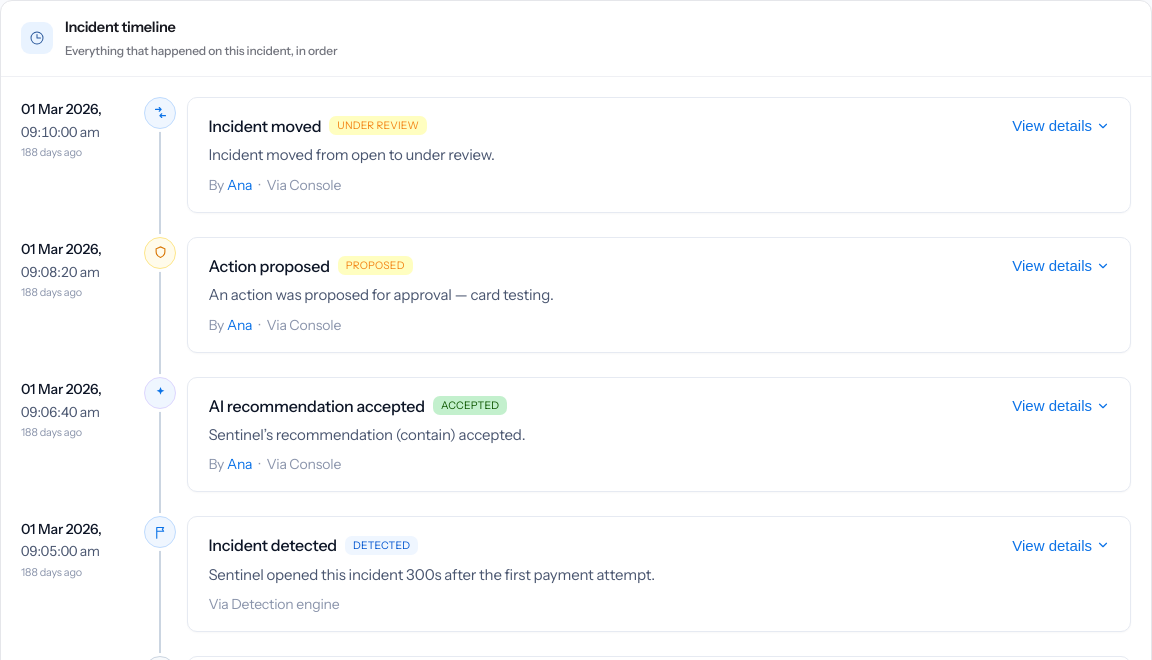
Test: IncidentTimelineTab › expands an event to show only real backend fields
Expected: the text "AI recommendation accepted" is shown, [208, 394, 425, 418]
Step 1. Click the button with class "tl-details" in the row of "AI recommendation accepted" → [1061, 406], box [1012, 397, 1110, 414]
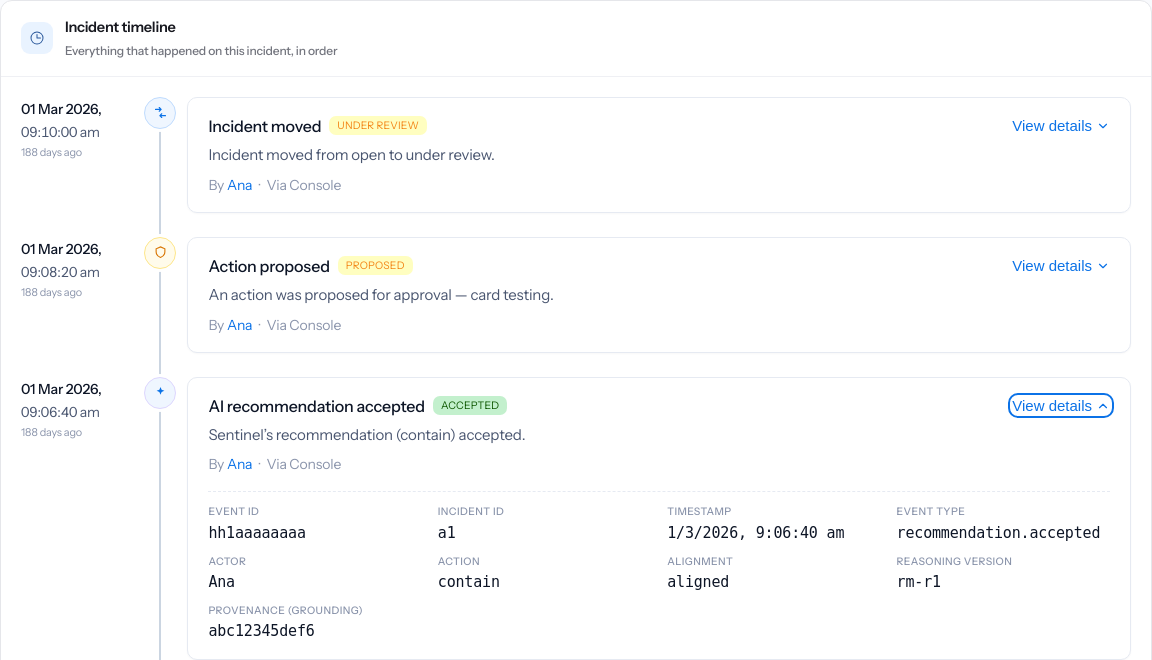
Now the text "Reasoning version" is shown, box [897, 555, 1012, 568]
Now the text "rm-r1" is shown, box [897, 573, 941, 591]
Now the text "Provenance (grounding)" is shown, box [208, 604, 363, 617]
